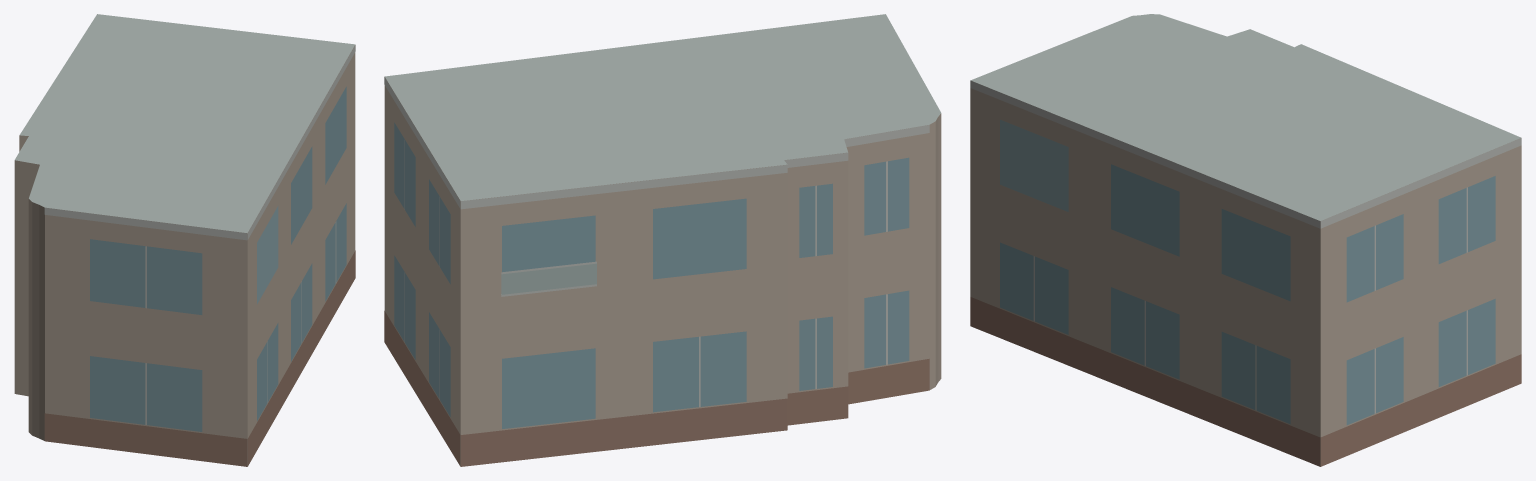
Rendered from survey-upis-32597815.glb.
3 renders of one model, left to right at view 1: azimuth 30°, elevation 25°; view 2: azimuth 150°, elevation 25°; view 3: azimuth 270°, elevation 25°, orthographic. The views are drawn at different scales.
Parts seen in each view (by area): view 1: survey-upis-32597815.tmp; view 2: survey-upis-32597815.tmp; view 3: survey-upis-32597815.tmp.
Part boxes in pixels (<box>): survey-upis-32597815.tmp: <box>14,14,355,466</box>; survey-upis-32597815.tmp: <box>384,14,941,466</box>; survey-upis-32597815.tmp: <box>970,14,1521,466</box>.
Size of the model in its own units: 14.29 by 7.9 by 16.07.
